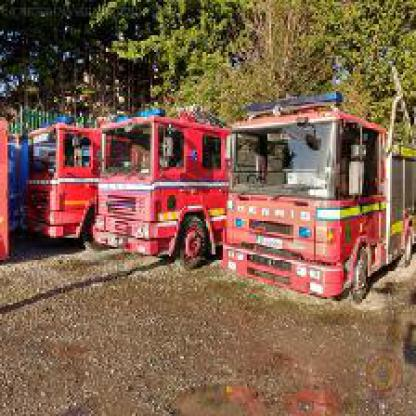emergency: (217, 89, 414, 314), (93, 104, 228, 279), (21, 110, 101, 252)
